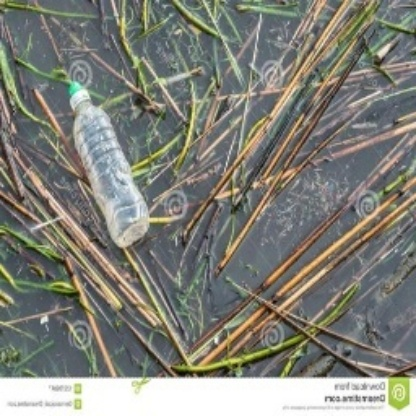bottle: (67, 76, 156, 249)
